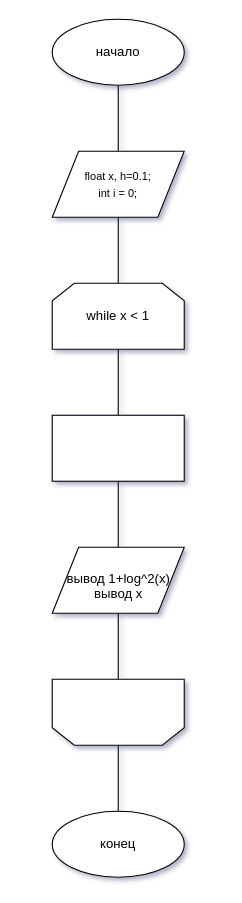
Some shapes in this 242 by 903 pixel diagram are drawn without their labels. The centre of each missing label's shape, as x and y in pixels:
i++: point (117, 711)
x = 0.4 +i*h: point (117, 447)
